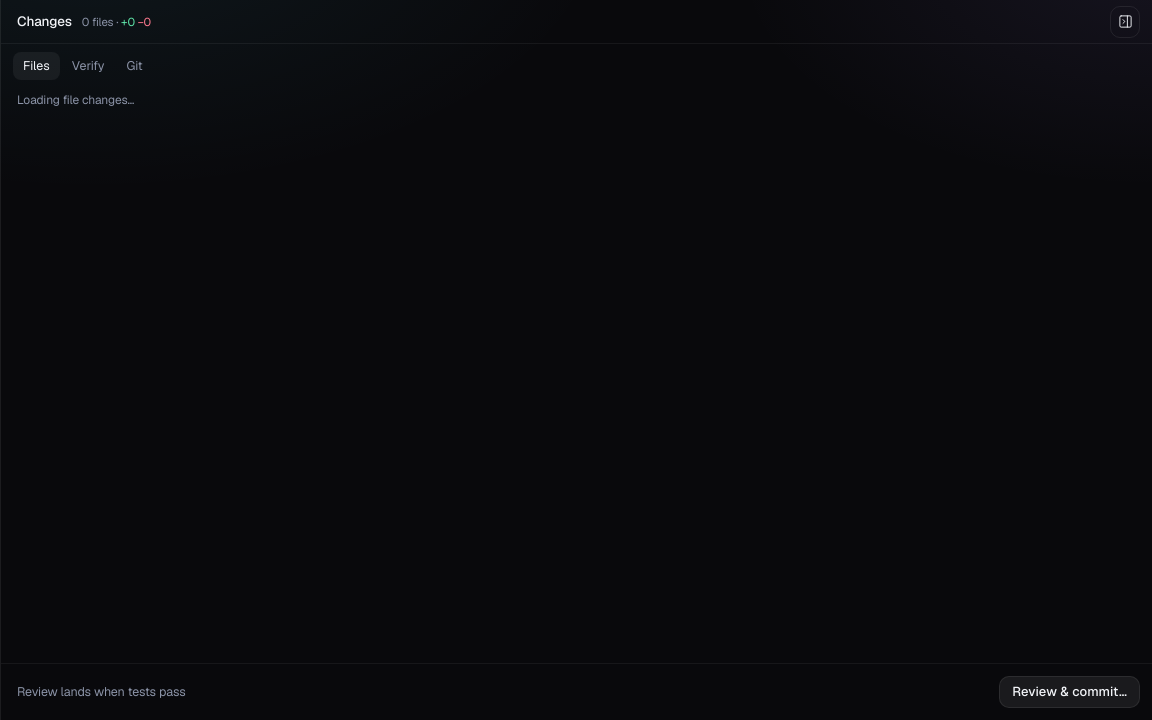
Test: catch-up open shows Loading git review… not absent (AC-13)
Expected: the text "Loading file changes…" is shown, top-left (17, 92), bottom-right (134, 108)
Click the tab "Git" at (134, 66), box top-left (116, 52), bottom-right (153, 80)
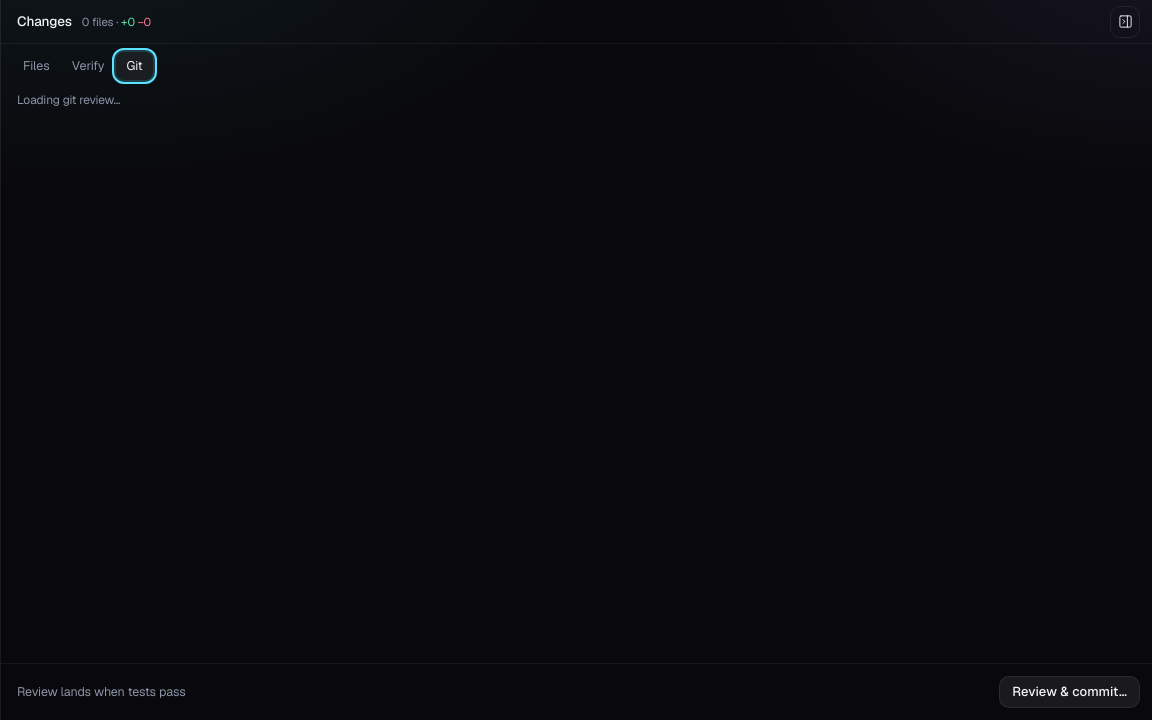
Expected: the text "Loading git review…" is shown, top-left (17, 92), bottom-right (120, 108)
